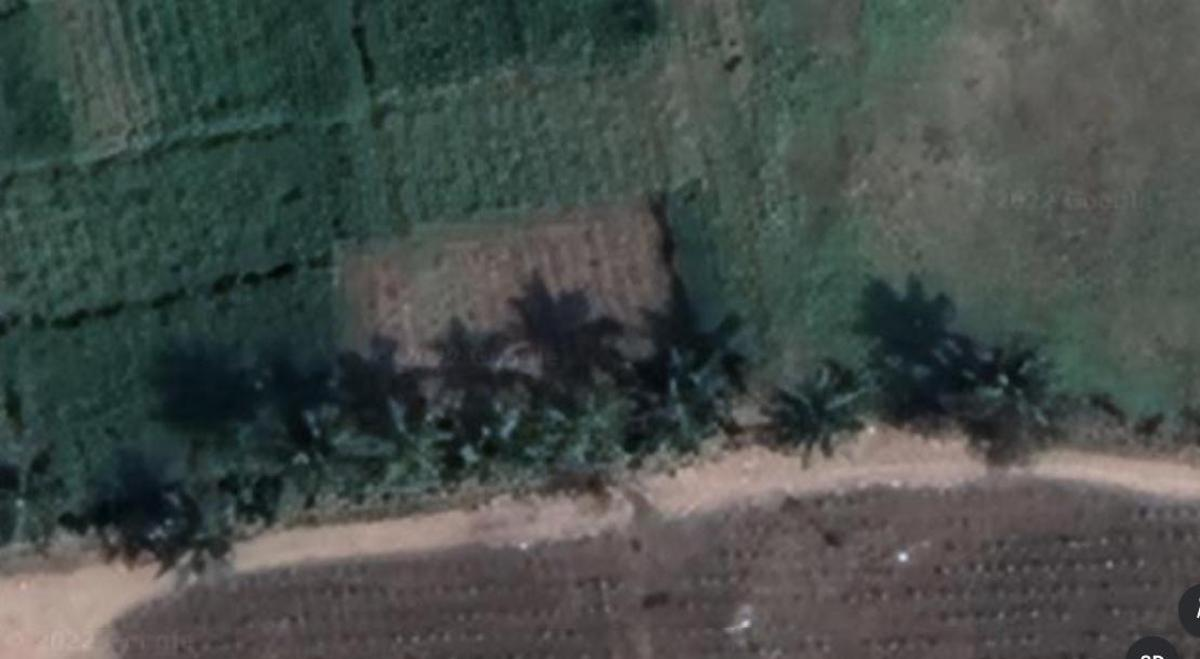coconut: (967, 341, 1058, 437), (655, 352, 746, 445), (766, 370, 859, 458), (482, 381, 572, 470), (269, 403, 361, 485), (380, 407, 462, 490), (558, 370, 635, 454), (161, 492, 240, 564), (93, 497, 165, 563), (219, 459, 277, 523)
